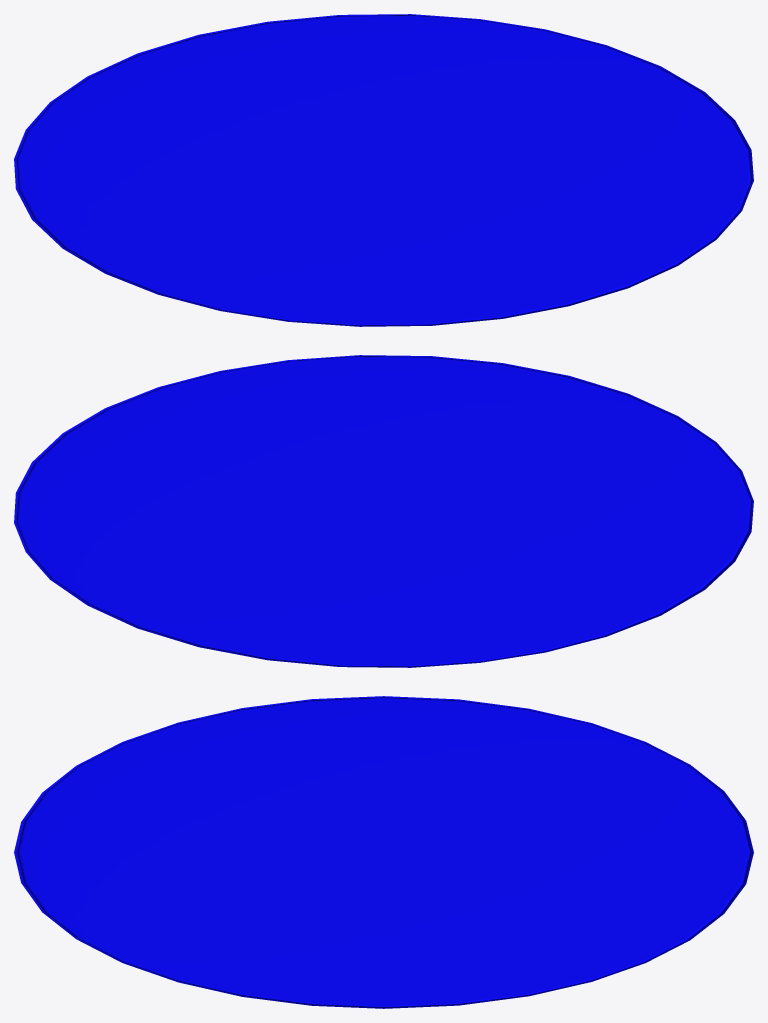
File: Beacon.fbx
3 views of the same model, one above another, from view 1: azimuth 30°, elevation 25°; view 2: azimuth 150°, elevation 25°; view 3: azimuth 270°, elevation 25° (orthographic).
Visible parts, largest first — view 1: Sphere; view 2: Sphere; view 3: Sphere.
Part boxes in pixels (x1,y1,x2,y2): Sphere: [14, 14, 753, 326]; Sphere: [14, 355, 753, 667]; Sphere: [14, 696, 753, 1008].
Size of the model in its own units: 20 by 0.1 by 20.
